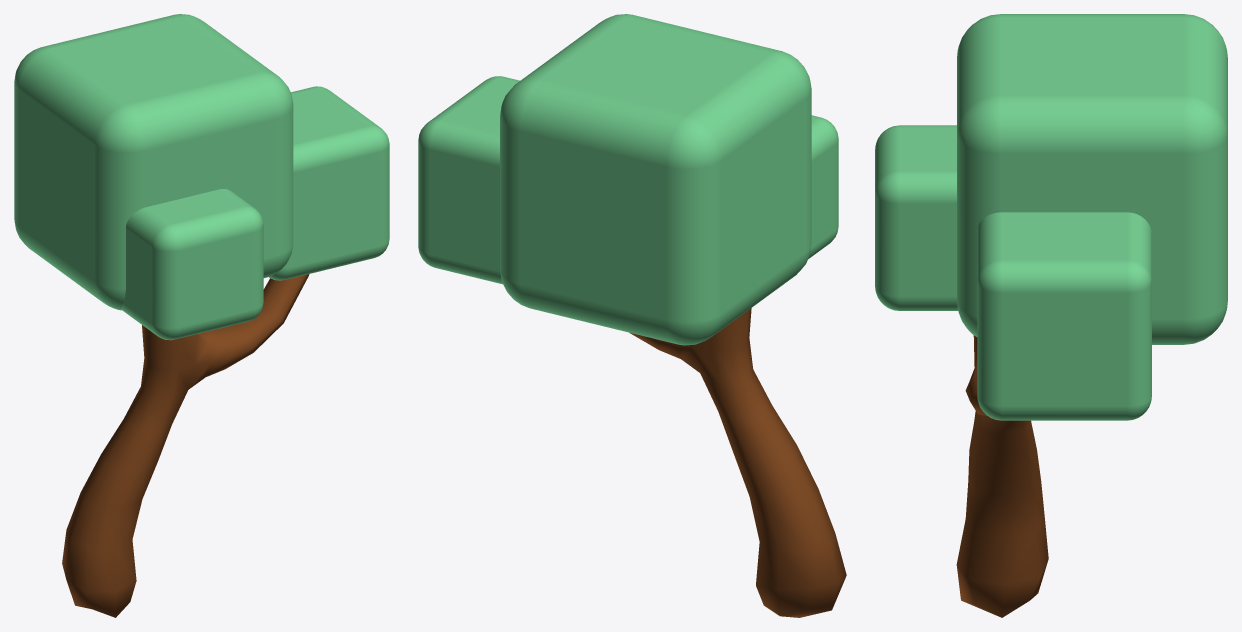
The model's file is tree.gltf.
The picture shows the model from 3 angles, left to right: view 1: azimuth 30°, elevation 25°; view 2: azimuth 150°, elevation 25°; view 3: azimuth 270°, elevation 25°; orthographic projection. The views are drawn at different scales.
Parts seen in each view (by area): view 1: Cube 42, Cube 37, Cube 41, Cube 40; view 2: Cube 42, Cube 37, Cube 40, Cube 41; view 3: Cube 42, Cube 40, Cube 37, Cube 41.
Boxes of the visible parts, x1,y1,x2,y2 form: Cube 42: (14,14,293,310); Cube 37: (62,274,309,617); Cube 41: (121,189,263,340); Cube 40: (268,86,389,280); Cube 42: (500,14,811,345); Cube 37: (629,308,846,617); Cube 40: (418,76,519,284); Cube 41: (808,115,838,258); Cube 42: (957,14,1227,344); Cube 40: (977,212,1151,420); Cube 37: (956,335,1048,617); Cube 41: (875,125,958,310).
Bounding box in the file's own units: 2.52 × 3.74 × 1.98.
